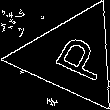P_NW: (37, 29, 105, 85)
